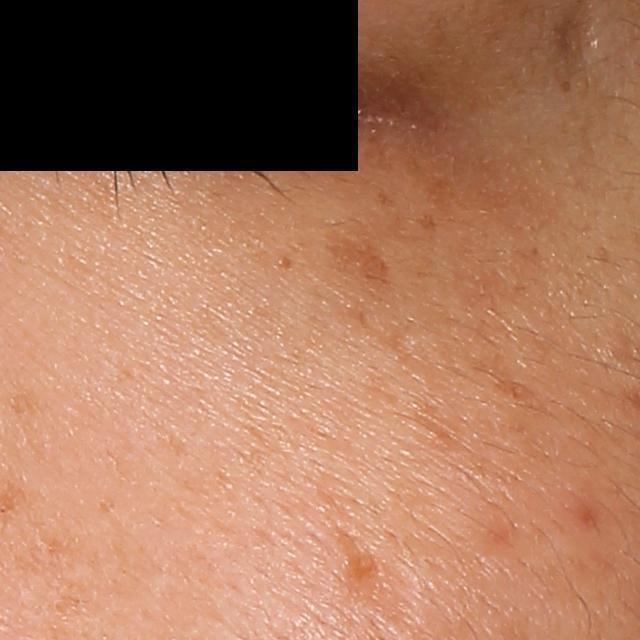melasma: (320, 223, 400, 299), (403, 134, 476, 212)
